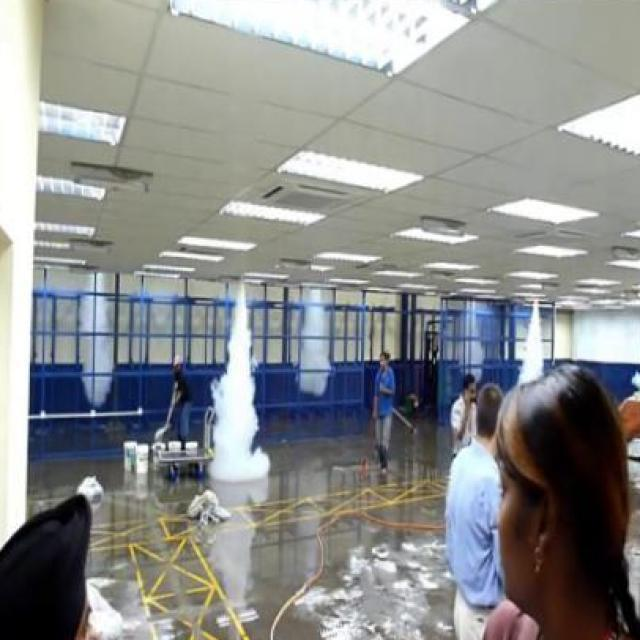fire: (203, 283, 274, 482), (512, 303, 550, 387)
